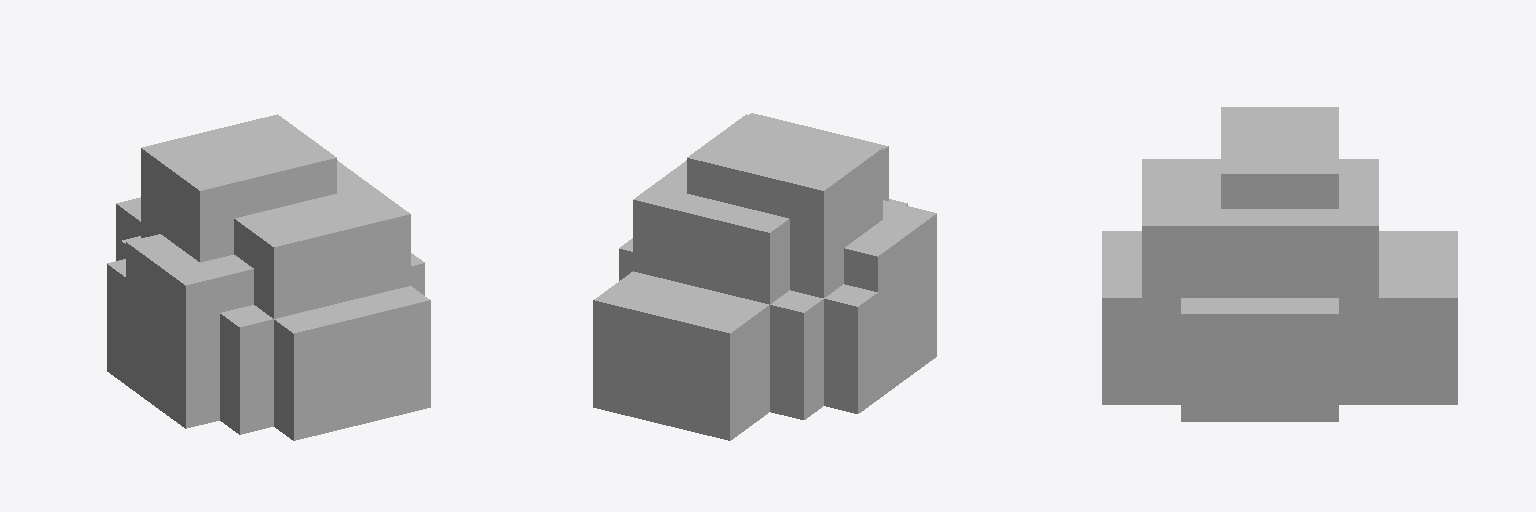
Rendered from Rock4.obj.
The picture shows the model from 3 angles: view 1: azimuth 30°, elevation 25°; view 2: azimuth 150°, elevation 25°; view 3: azimuth 270°, elevation 25°; orthographic projection.
Parts seen in each view (by area): view 1: object 1; view 2: object 1; view 3: object 1.
Part boxes in pixels (bbox=[...]): object 1: bbox=[107, 114, 430, 440]; object 1: bbox=[593, 113, 936, 440]; object 1: bbox=[1102, 107, 1457, 421].
Bounding box in the file's own units: 0.7 × 0.6 × 0.9.